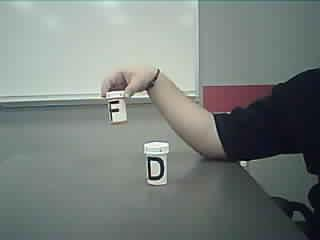Bottle D: (138, 135, 175, 204)
Bottle F: (103, 90, 132, 130)
